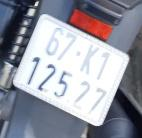1: (93, 48, 116, 82), (24, 53, 45, 87)
2: (70, 78, 95, 112), (36, 60, 60, 95)
5: (53, 67, 77, 102)
6: (43, 23, 67, 59)
7: (84, 83, 110, 118), (55, 30, 80, 64)
K: (77, 40, 103, 78)
